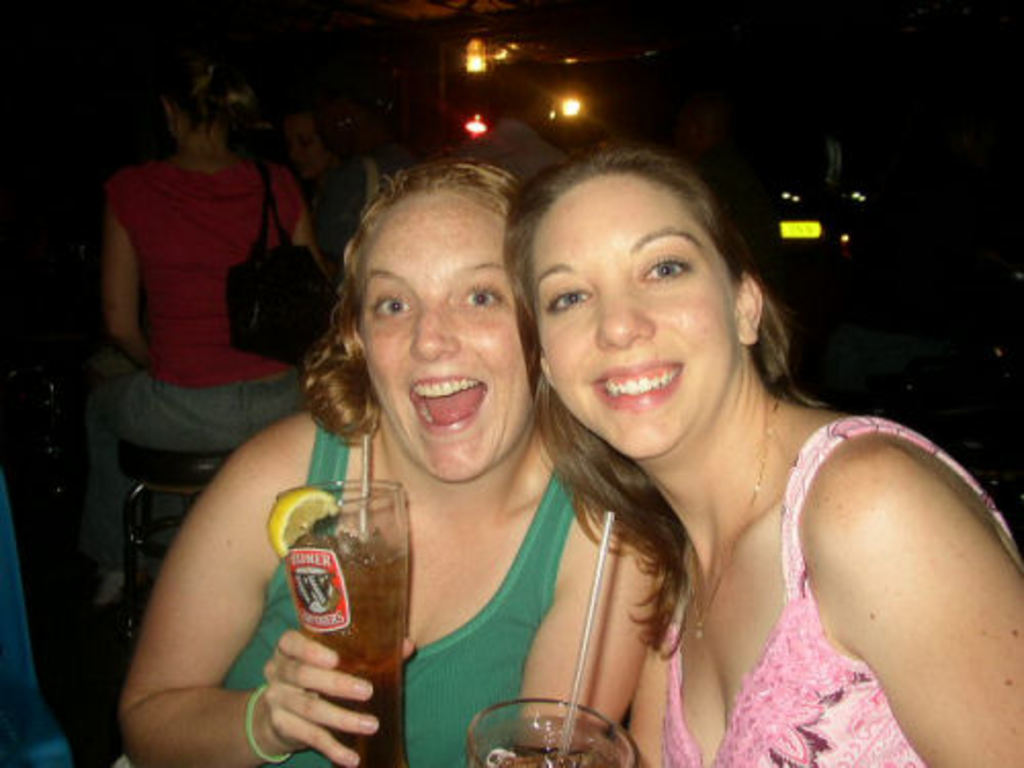Beer: (275, 471, 410, 768), (471, 698, 645, 768)
